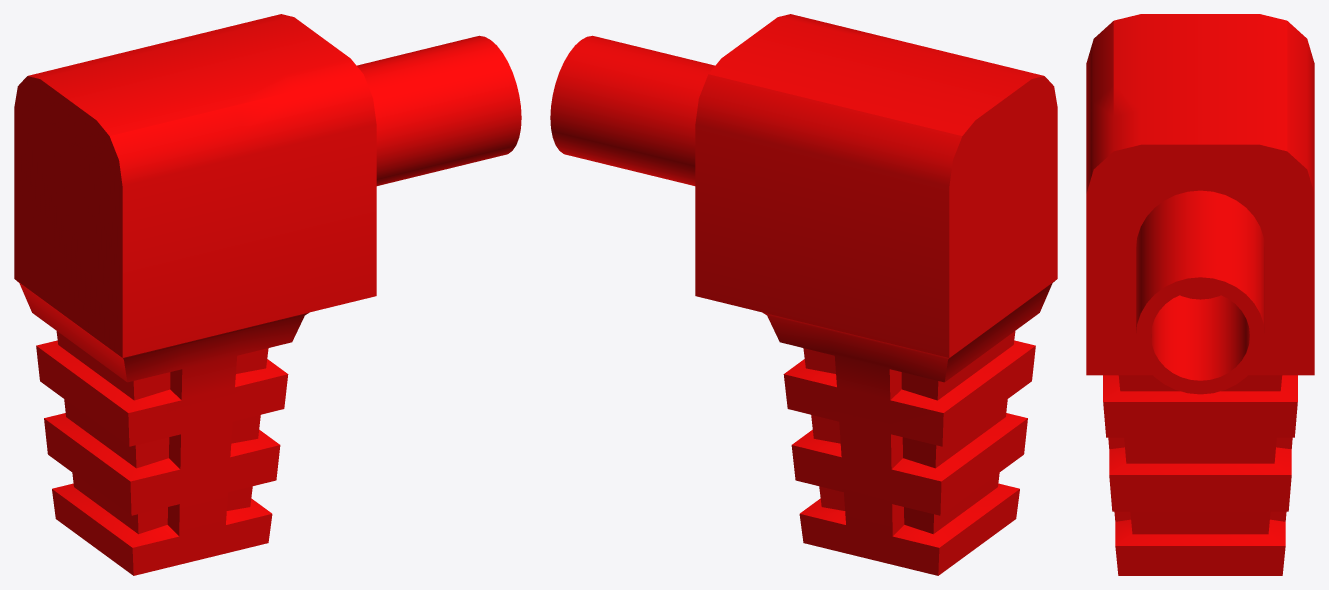
File: Colokan Kecil Merah.fbx
The picture shows the model from 3 angles, left to right: view 1: azimuth 30°, elevation 25°; view 2: azimuth 150°, elevation 25°; view 3: azimuth 270°, elevation 25°; orthographic projection. The views are drawn at different scales.
Visible parts, largest first — view 1: Cube; view 2: Cube; view 3: Cube.
Boxes of the visible parts, x1,y1,x2,y2 form: Cube: [14, 14, 521, 575]; Cube: [550, 14, 1057, 575]; Cube: [1086, 14, 1314, 575].
Bounding box in the file's own units: 7.89 × 8.1 × 3.5.
Materials: 1 (1 with a texture image).
